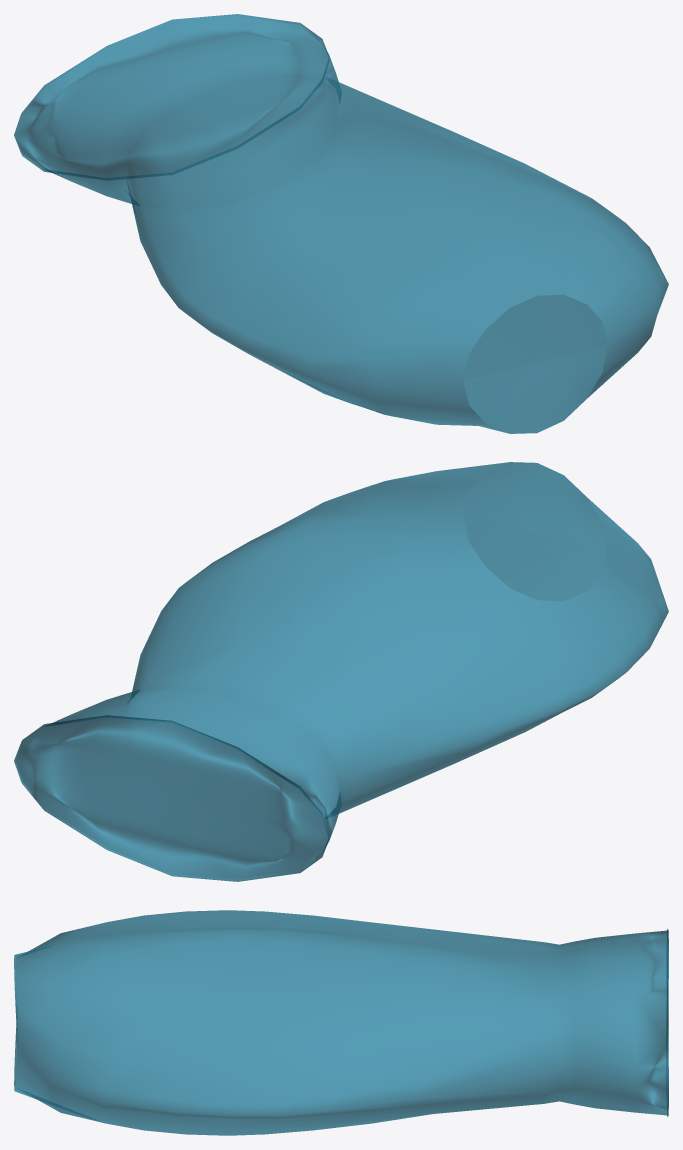
File: MeshSoapBottleVolume_13_1.obj
3 renders of one model, top to bottom at view 1: azimuth 30°, elevation 25°; view 2: azimuth 150°, elevation 25°; view 3: azimuth 270°, elevation 25°, orthographic. The views are drawn at different scales.
Parts seen in each view (by area): view 1: SoapBottleVolume_13; view 2: SoapBottleVolume_13; view 3: SoapBottleVolume_13.
Part boxes in pixels (x1,y1,x2,y2): SoapBottleVolume_13: (14,14,668,433); SoapBottleVolume_13: (14,462,668,881); SoapBottleVolume_13: (14,910,668,1135).
Size of the model in its own units: 0.1167 by 0.0436 by 0.175.
